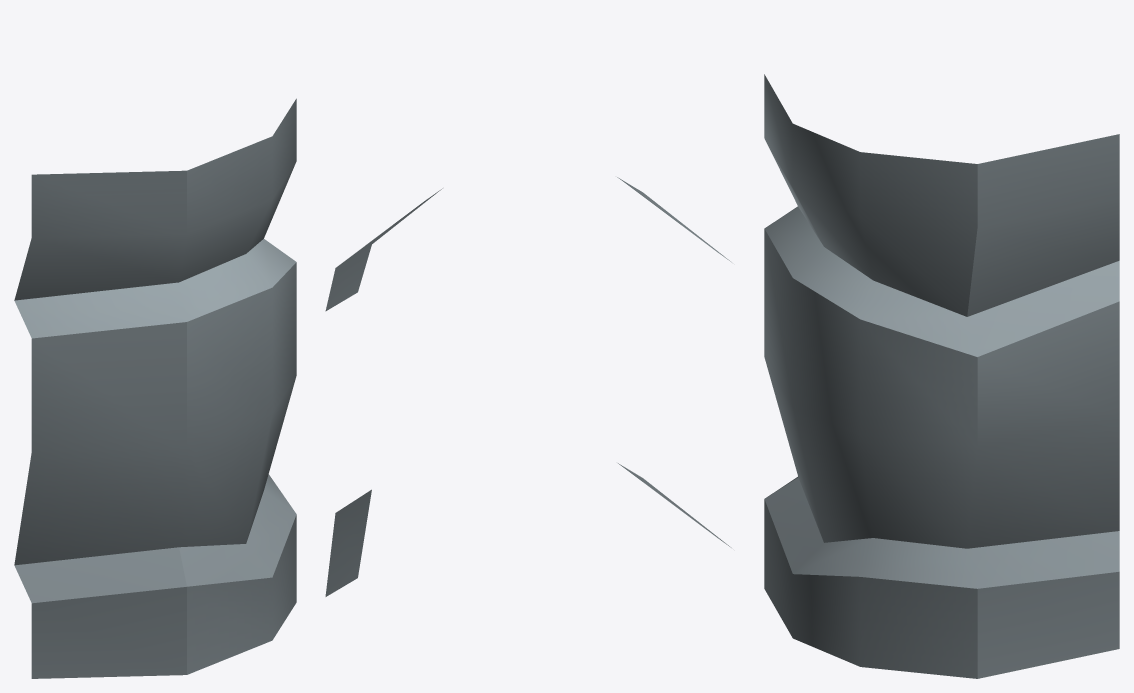
File: Hill_Cliff_Tall_I_OuterCorner_Color1.gltf
3 views of the same model, side by side, from view 1: azimuth 30°, elevation 25°; view 2: azimuth 150°, elevation 25°; view 3: azimuth 270°, elevation 25° (orthographic). The views are drawn at different scales.
Visible parts, largest first — view 1: Hill_Cliff_Tall_I_OuterCorner_Color1; view 2: Hill_Cliff_Tall_I_OuterCorner_Color1; view 3: Hill_Cliff_Tall_I_OuterCorner_Color1.
Boxes of the visible parts, left/top/right/bottom form: Hill_Cliff_Tall_I_OuterCorner_Color1: left=14, top=98, right=296, bottom=678; Hill_Cliff_Tall_I_OuterCorner_Color1: left=325, top=177, right=731, bottom=596; Hill_Cliff_Tall_I_OuterCorner_Color1: left=764, top=74, right=1119, bottom=678.
Size of the model in its own units: 2.5 by 4 by 2.5.
1 material, 1 textured.
